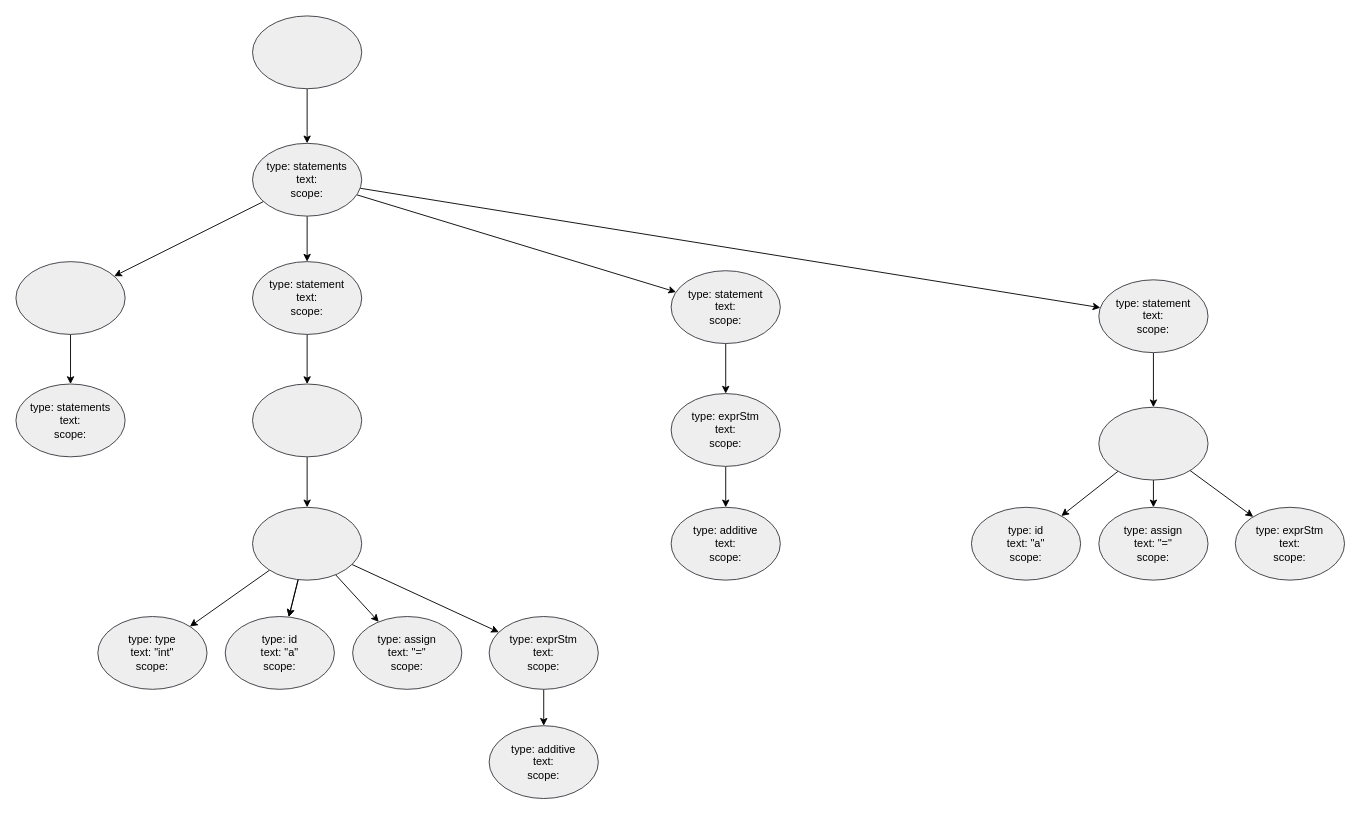
This 1360x814 diagram has some shape labels left out. Each missing label, with the centre of its shape:
"type: assignStm text: scope:" belongs at (x=1153, y=443).
"type: blockStm text: scope:" belongs at (x=70, y=297).
"type: declare text: scope:" belongs at (x=307, y=420).
"type: program text: scope:" belongs at (x=307, y=52).
"type: varDeclare text: scope:" belongs at (x=307, y=543).
